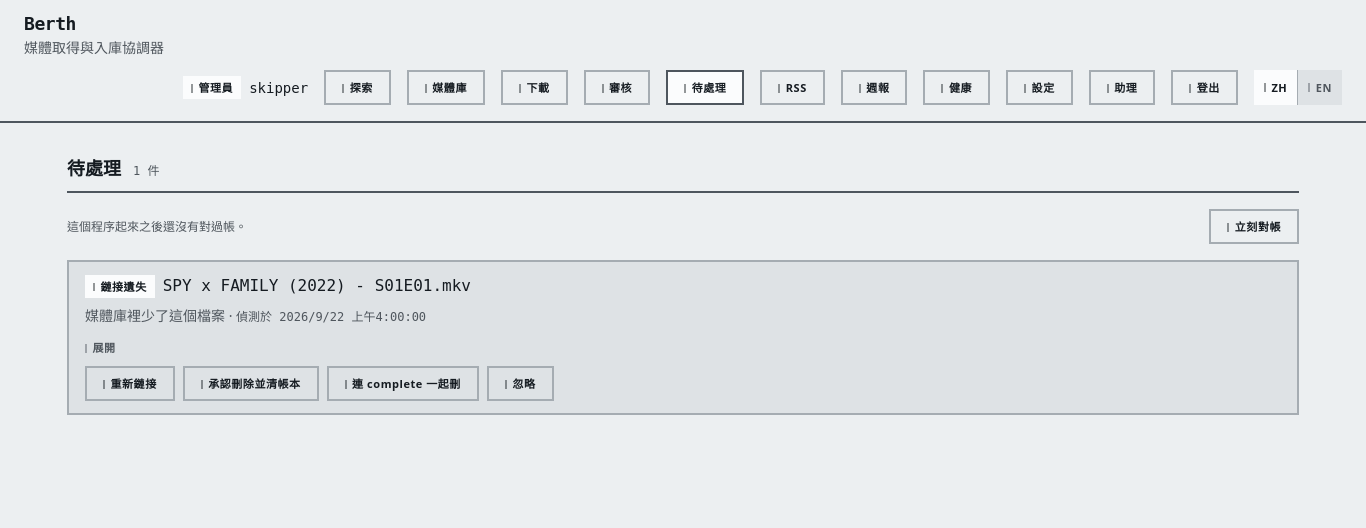
Test: 待處理頁 › 連 complete 一起刪要先確認，而確認說清楚單位是整筆下載
Step 1. Click the button "連 complete 一起刪" → coordinates (403, 384), box [327,366,479,401]
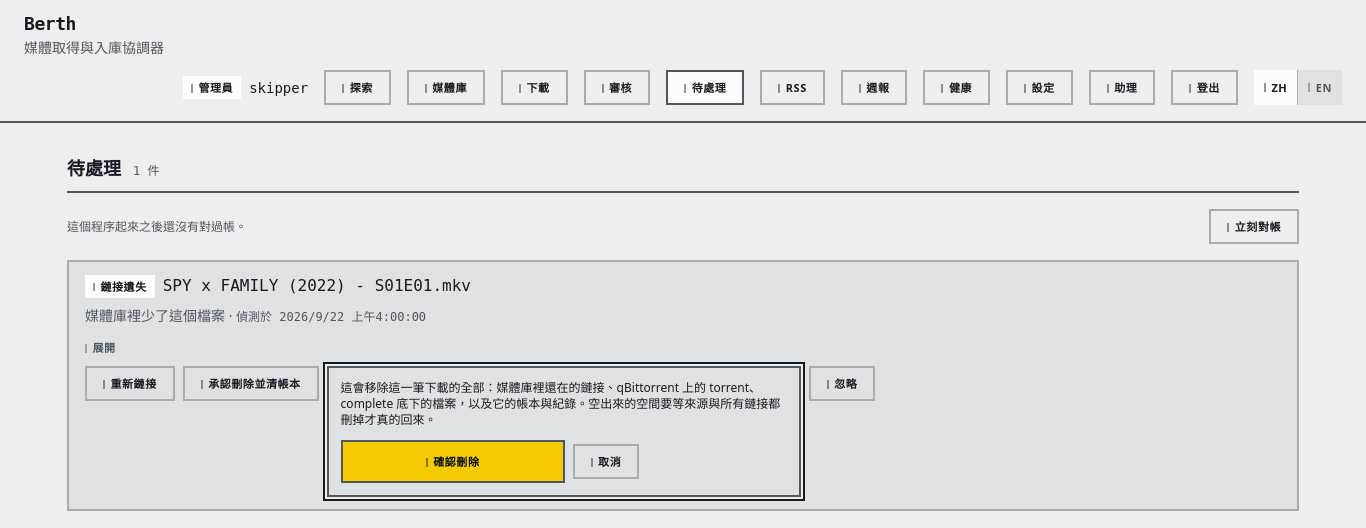
Check: the text "這會移除這一筆下載的全部" is shown, box [341,379,780,428]
